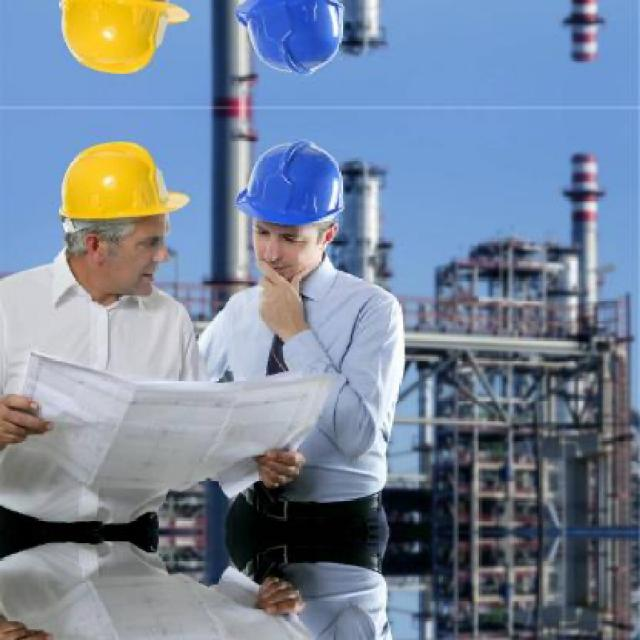helmet: (46, 125, 182, 309), (226, 128, 369, 302), (226, 0, 371, 86), (45, 0, 182, 89)
